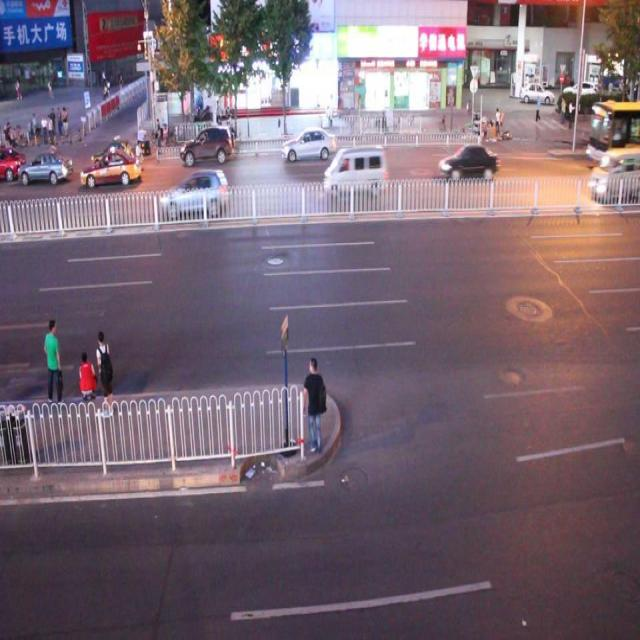car: (158, 171, 228, 217), (321, 145, 387, 193), (438, 136, 501, 184), (82, 153, 142, 198), (180, 127, 238, 169), (279, 126, 337, 162), (22, 146, 69, 189), (519, 75, 554, 108)
